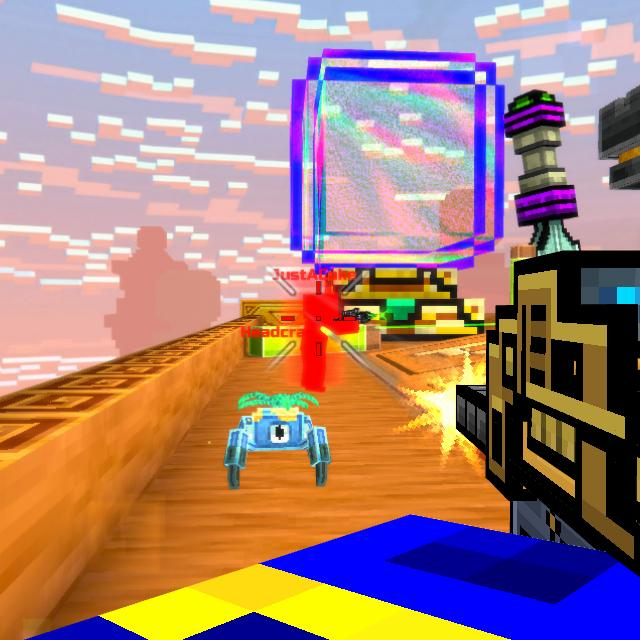Enemy: (303, 293, 356, 379)
